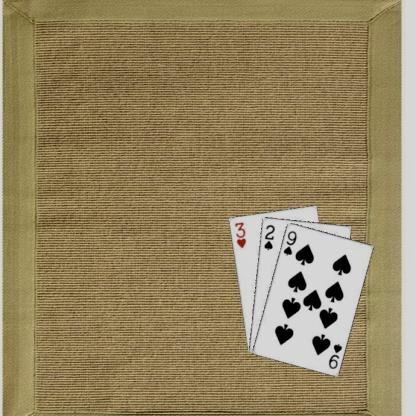2S: (262, 222, 276, 251)
3H: (232, 219, 247, 249)
9S: (281, 228, 298, 257), (326, 341, 343, 370)
